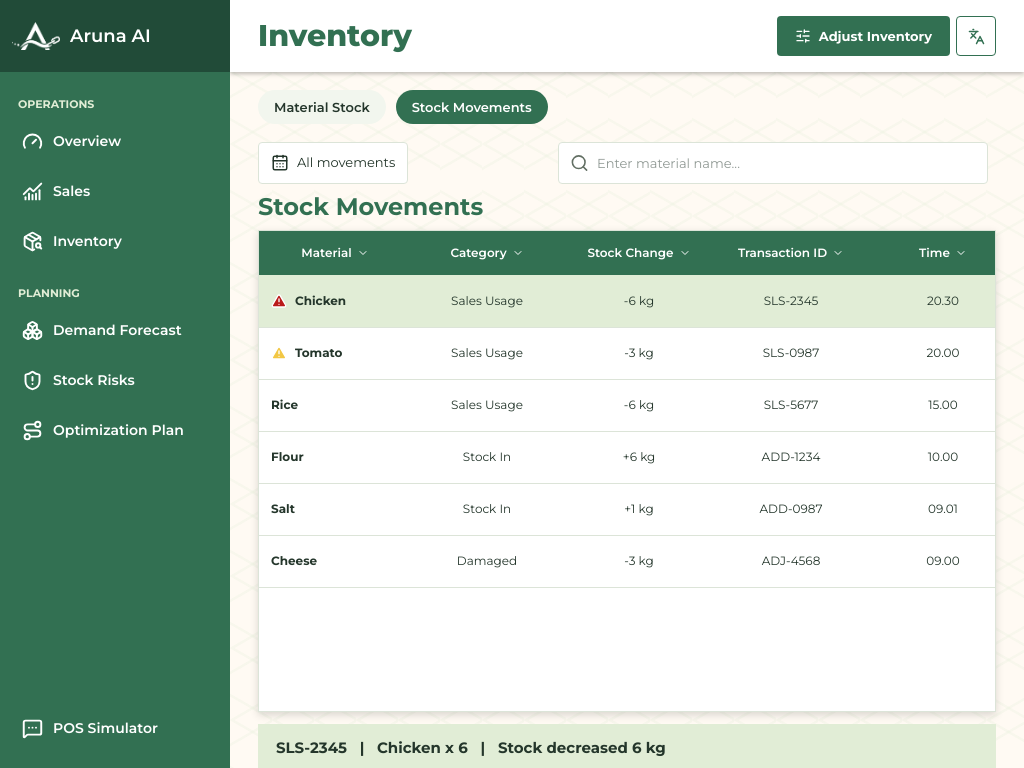
Test case: Inventory page states › omits raw risk prose from material details
Expected: the field with placeholder "Enter material name..." is shown, [597,155,976,171]
Click the tab "Material Stock": click(322, 107) [258,90,386,124]
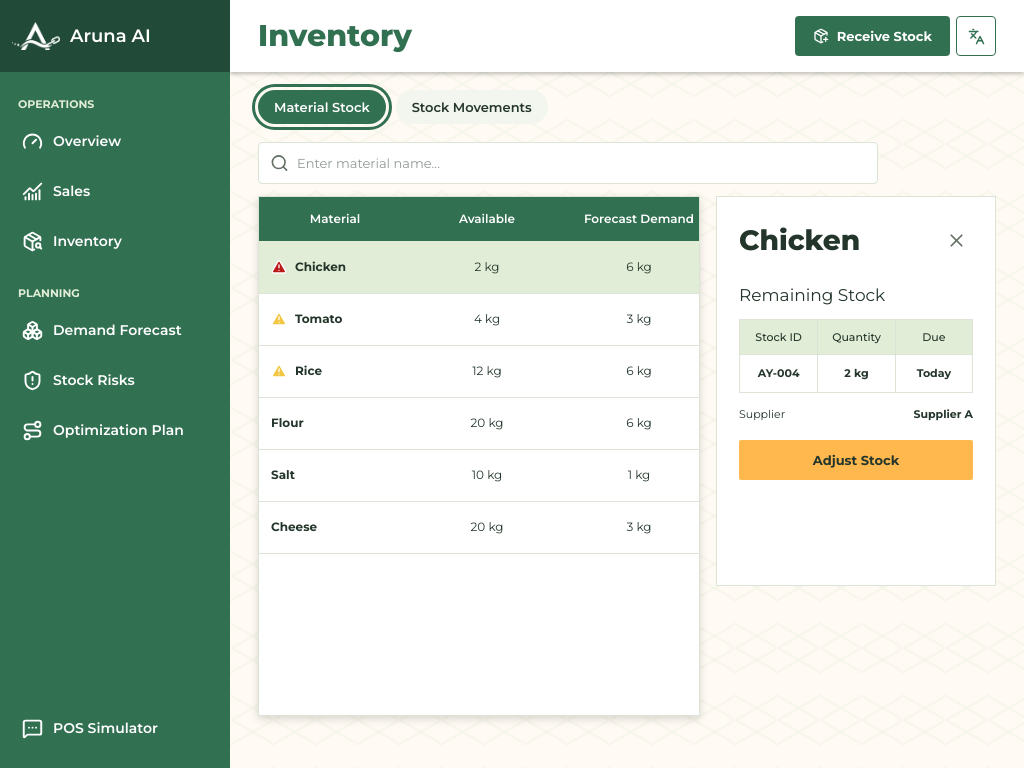
Result: the heading "Remaining Stock" is shown at [739,285,885,305]
